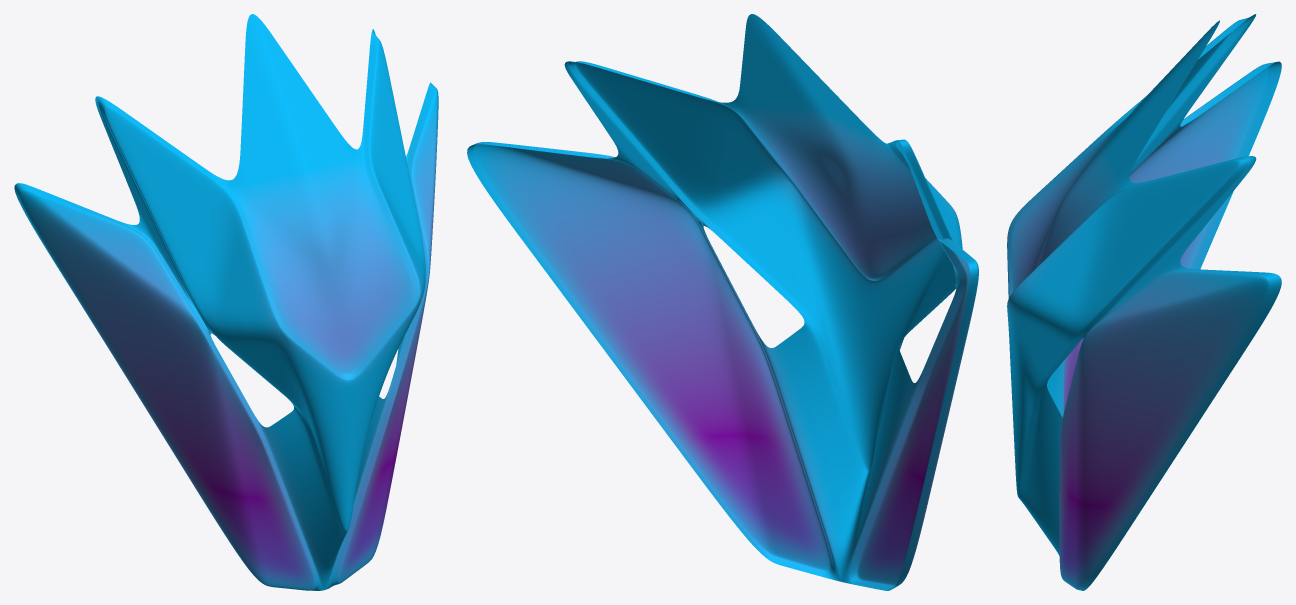
File: academy2.glb
3 renders of one model, left to right at view 1: azimuth 30°, elevation 25°; view 2: azimuth 150°, elevation 25°; view 3: azimuth 270°, elevation 25°, orthographic. The views are drawn at different scales.
Visible parts, largest first — view 1: DronPro_Mask; view 2: DronPro_Mask; view 3: DronPro_Mask.
Boxes of the visible parts, x1=… form: DronPro_Mask: x1=14, y1=14, x2=438, y2=590; DronPro_Mask: x1=467, y1=14, x2=978, y2=590; DronPro_Mask: x1=1007, y1=14, x2=1281, y2=590.
Size of the model in its own units: 1.76 by 2.11 by 0.9437.
Materials: 1 (1 with a texture image).
